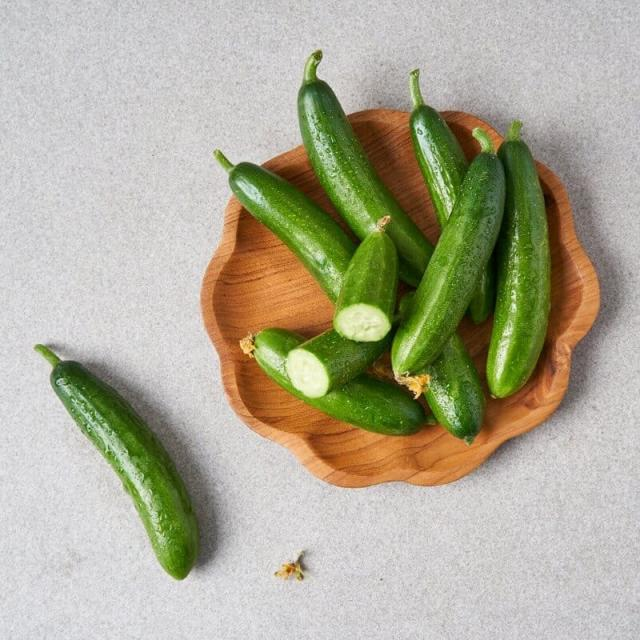cucumber: (210, 52, 570, 450), (0, 329, 219, 588), (361, 144, 536, 382), (320, 194, 422, 372)
